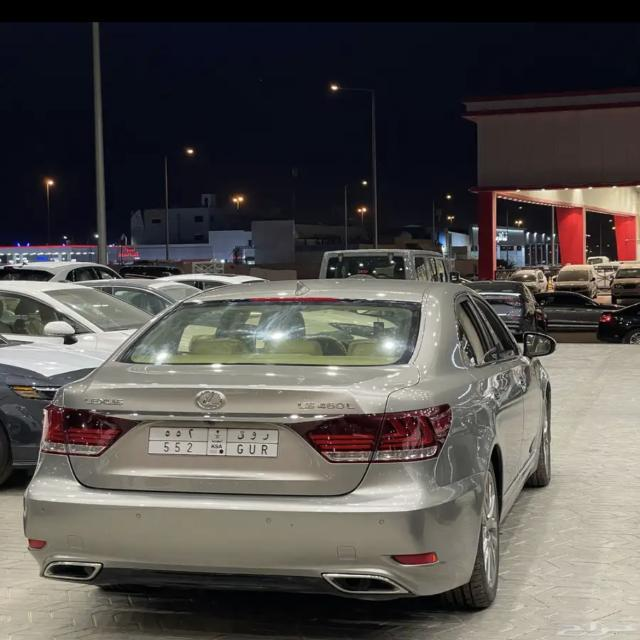license_plate: (148, 426, 285, 460)
